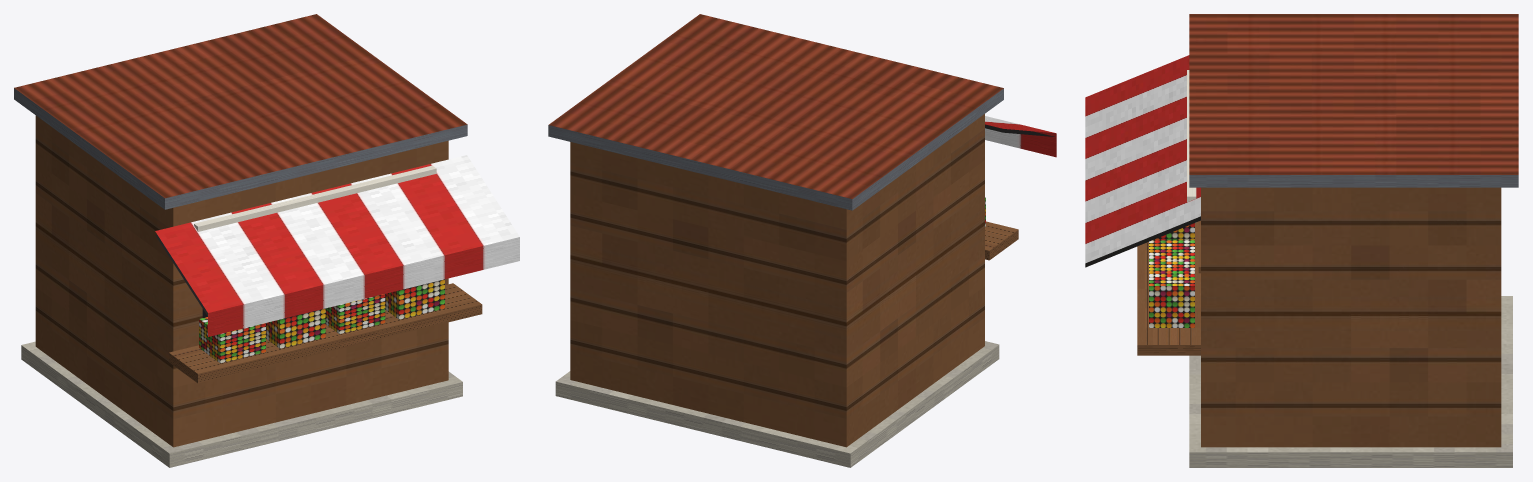
File: kiosk-red.glb
The picture shows the model from 3 angles, left to right: view 1: azimuth 30°, elevation 25°; view 2: azimuth 150°, elevation 25°; view 3: azimuth 270°, elevation 25°; orthographic projection. The views are drawn at different scales.
Visible parts, largest first — view 1: kiosk-red; view 2: kiosk-red; view 3: kiosk-red.
Boxes of the visible parts, x1,y1,x2,y2 form: kiosk-red: (14,14,519,467); kiosk-red: (548,14,1056,467); kiosk-red: (1085,14,1518,467).
Size of the model in its own units: 3.4 by 2.82 by 3.75.
Materials: 1 (1 with a texture image).
